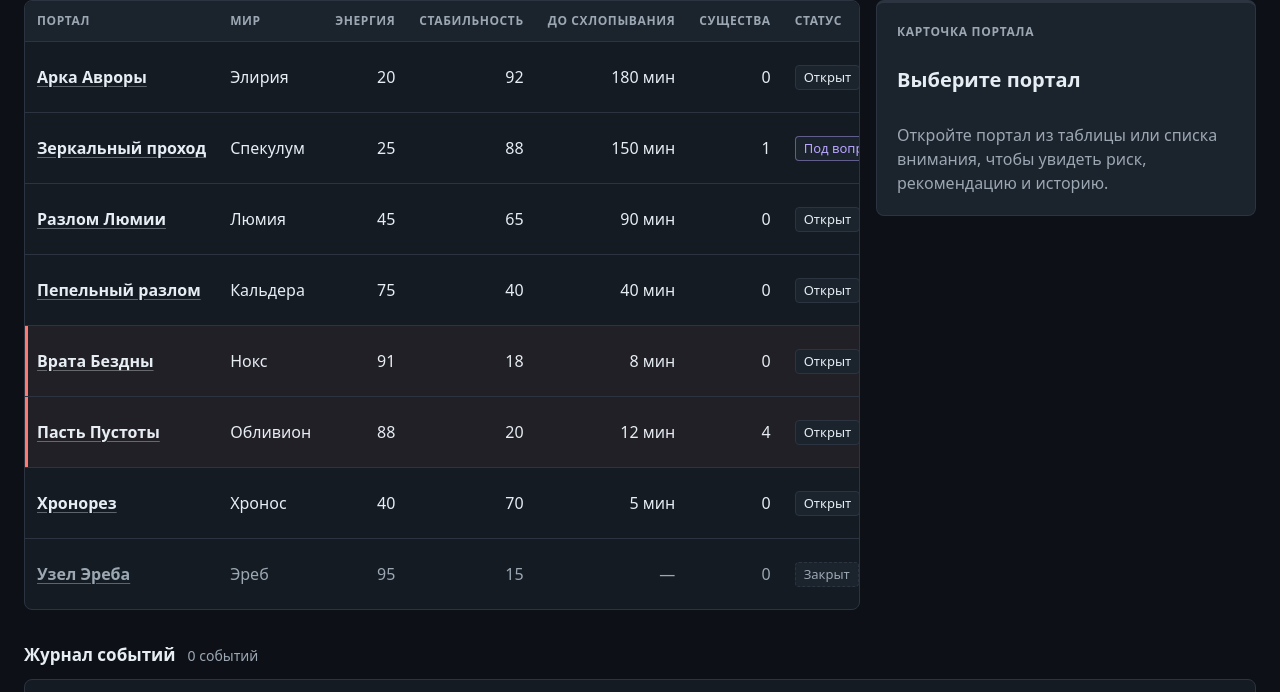
Test: Журнал событий › стабилизация попадает в журнал с изменениями из снимков
The width and height of the screenshot is (1280, 692).
(page scrolled)
Click the button "Врата Бездны" at (95, 361), box x1=37 y1=349 x2=154 y2=373
(page scrolled)
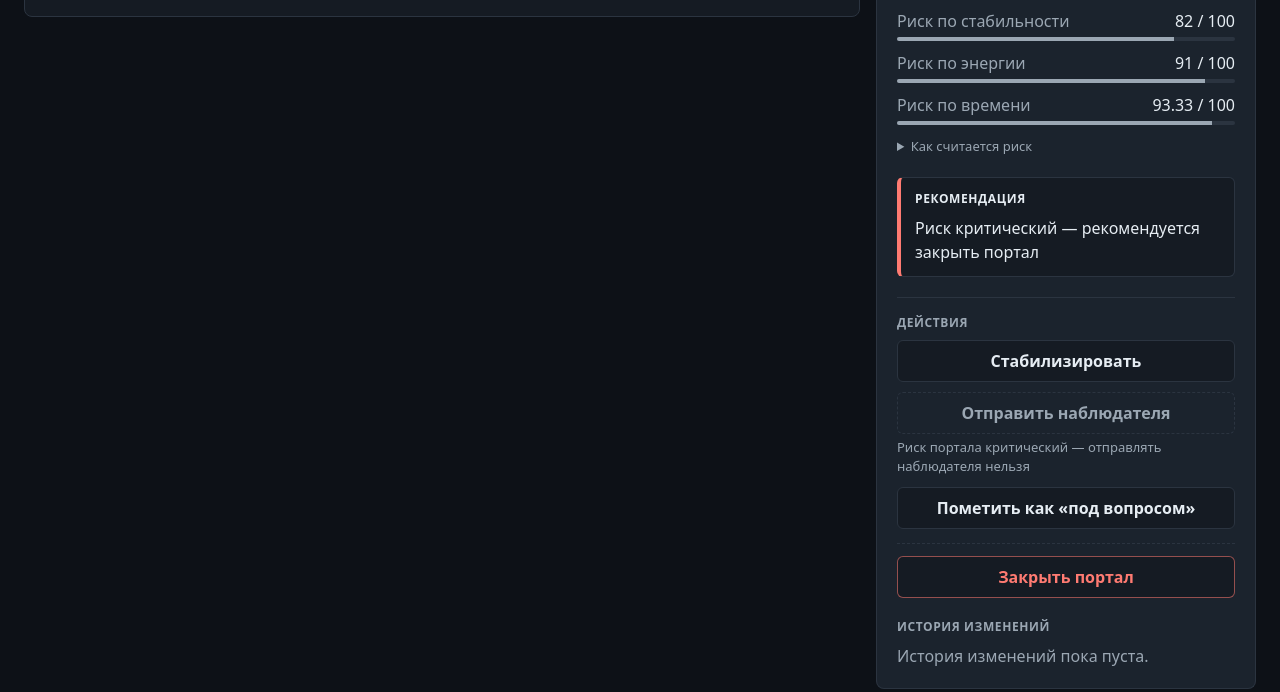
Click the button "Стабилизировать" at (1066, 361), box x1=897 y1=340 x2=1235 y2=382
(page scrolled)
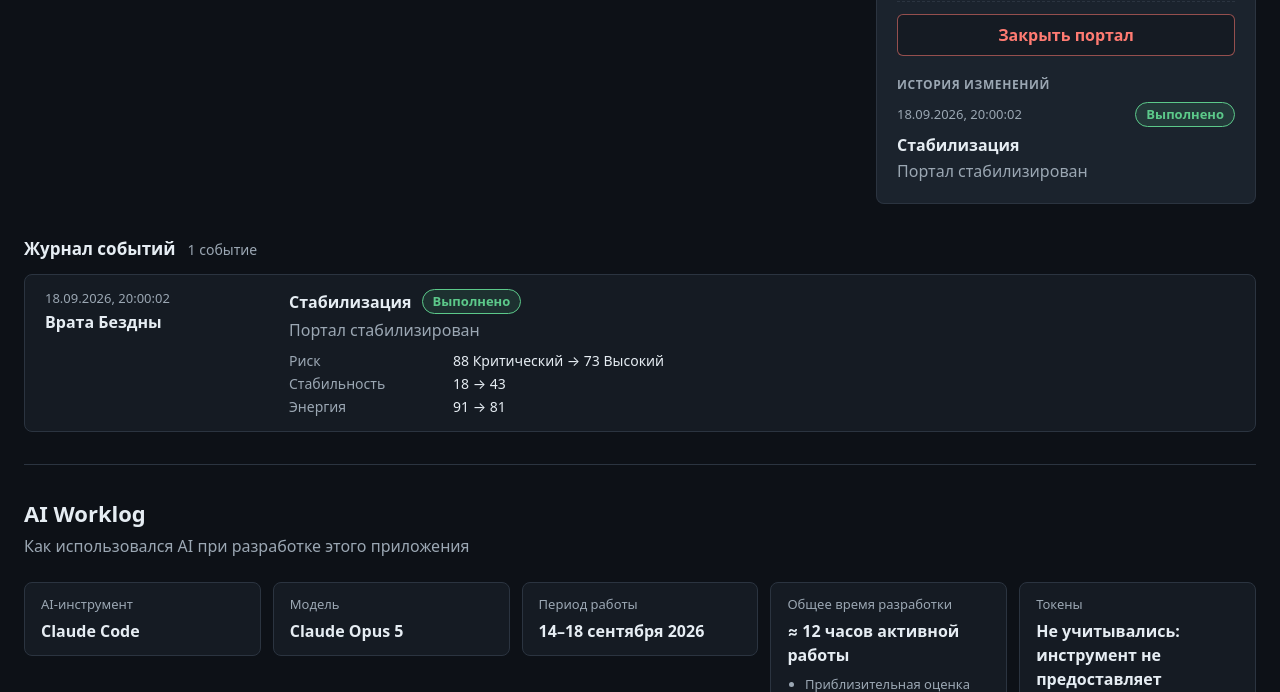
Now the text "1 событие" is shown, box x1=188 y1=239 x2=257 y2=260
Now the text "Врата Бездны" is shown, box x1=45 y1=311 x2=162 y2=333
Now the text "Стабилизация" below "1 событие" is shown, box x1=289 y1=291 x2=412 y2=313
